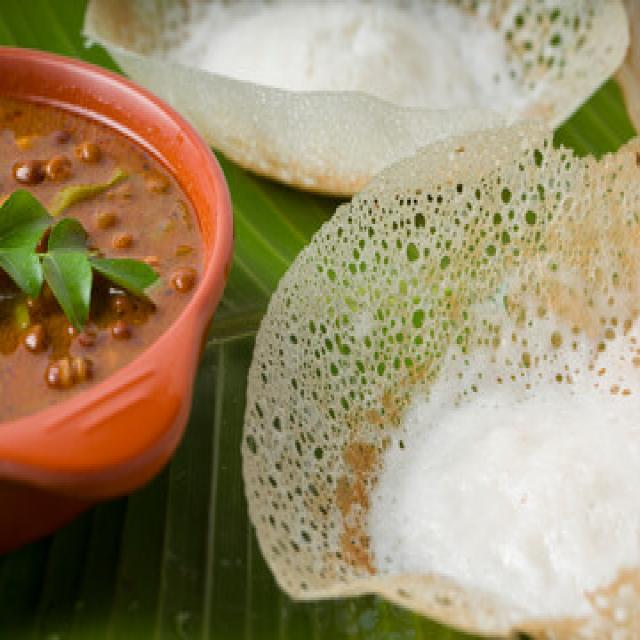AAPAM: (80, 1, 638, 637)
VEGGIES: (0, 91, 209, 416)
